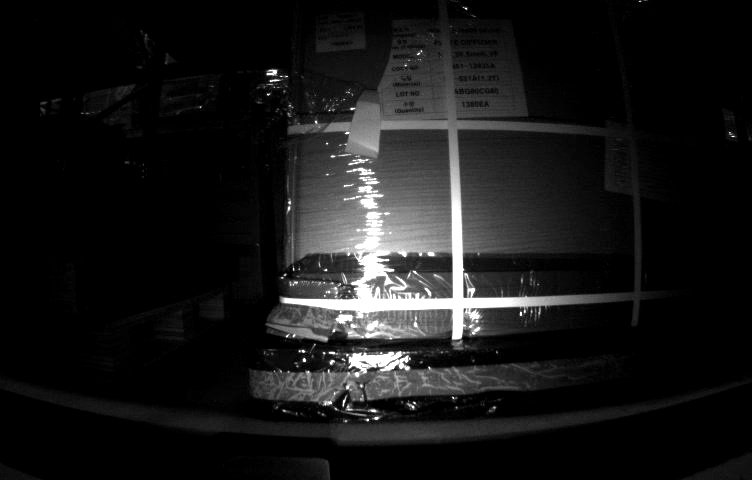True Barcode: (314, 11, 367, 49)
